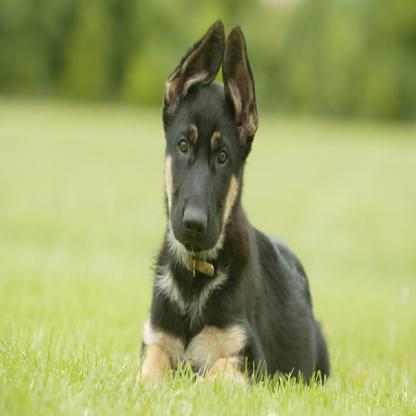dog: (140, 19, 328, 387)
